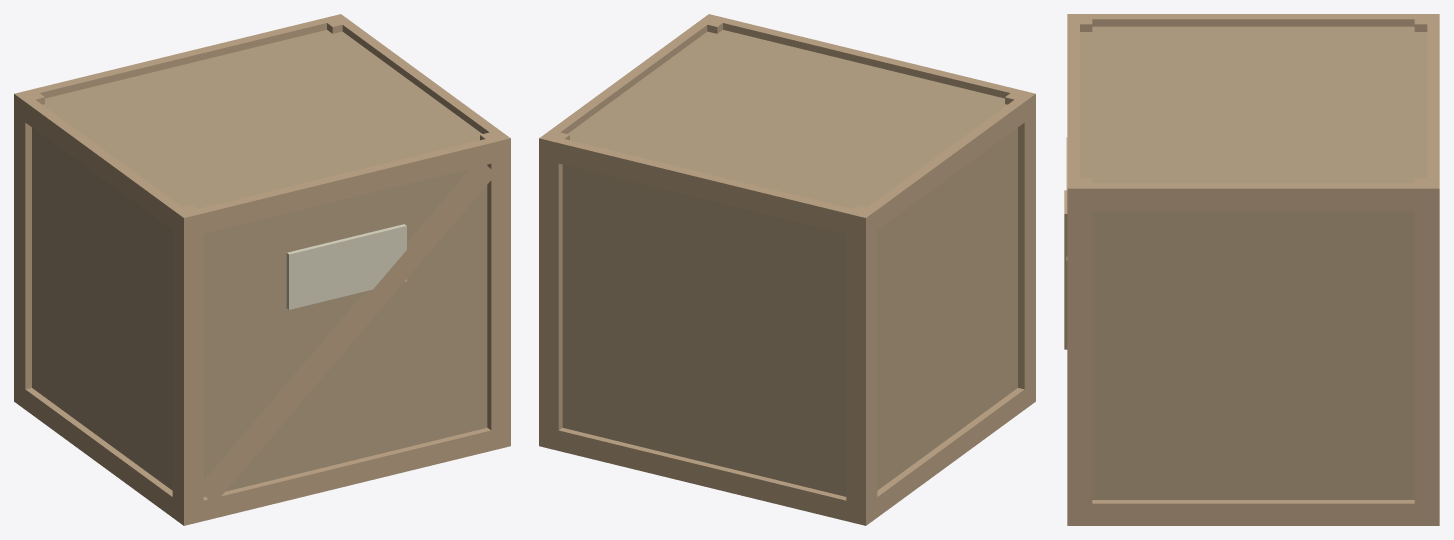
Rendered from furn_crate_large.fbx.
3 renders of one model, left to right at view 1: azimuth 30°, elevation 25°; view 2: azimuth 150°, elevation 25°; view 3: azimuth 270°, elevation 25°, orthographic. The views are drawn at different scales.
Visible parts, largest first — view 1: furn_crate_large; view 2: furn_crate_large; view 3: furn_crate_large.
Boxes of the visible parts, x1,y1,x2,y2 form: furn_crate_large: [14, 14, 510, 525]; furn_crate_large: [539, 14, 1035, 525]; furn_crate_large: [1064, 14, 1439, 525].
Size of the model in its own units: 1 by 0.9 by 0.9075.
